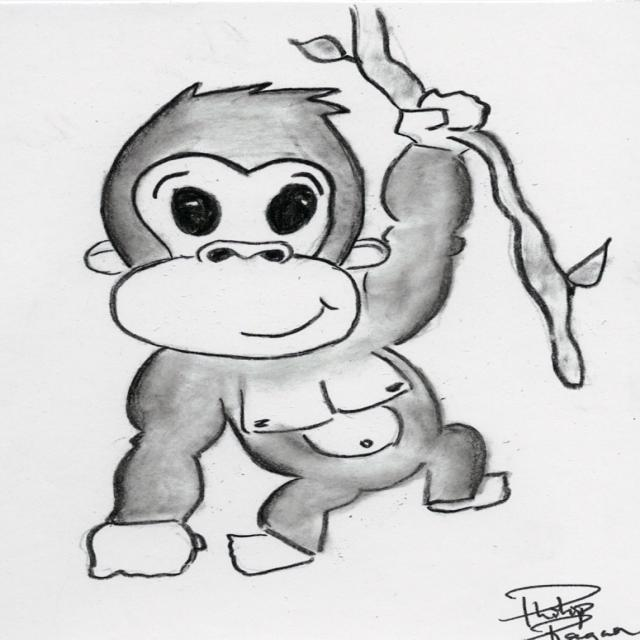Monkey: (83, 84, 493, 582)
